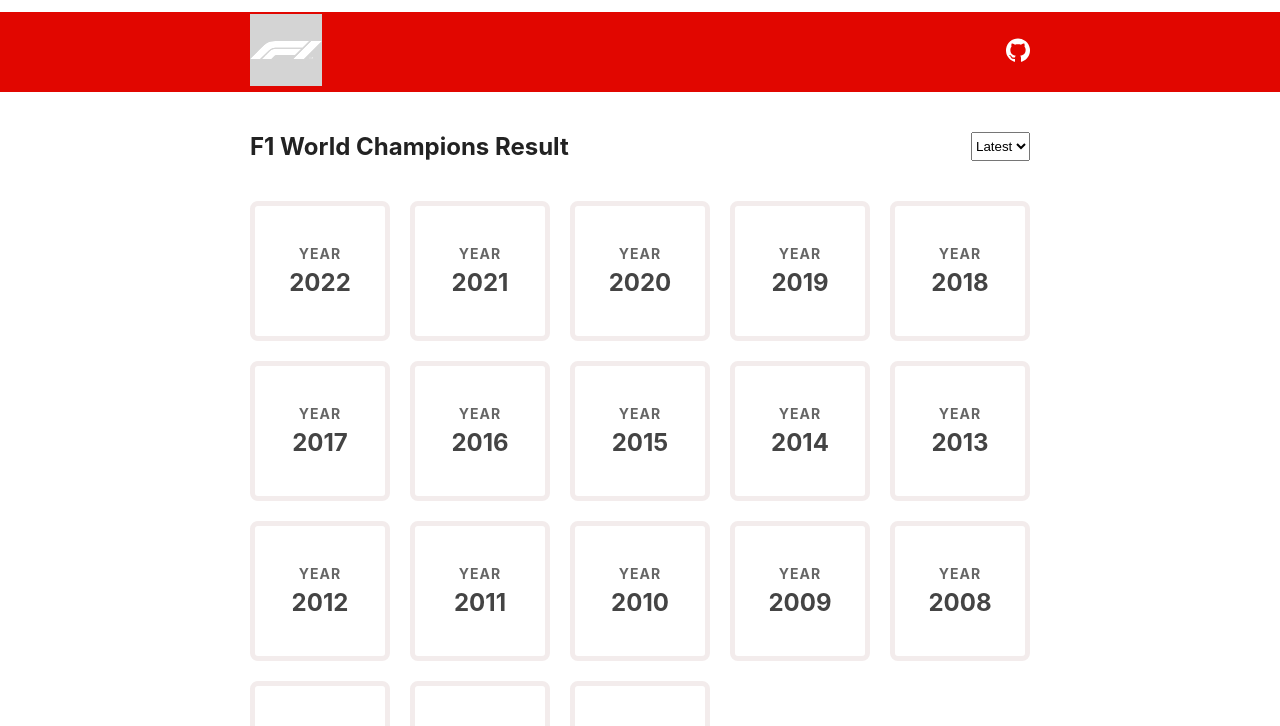
Test: Formula 1 App - Season page › shows the list of winners for every race for the selected year
Click the link to "/season/2022" at [320, 271], box [250, 201, 390, 341]
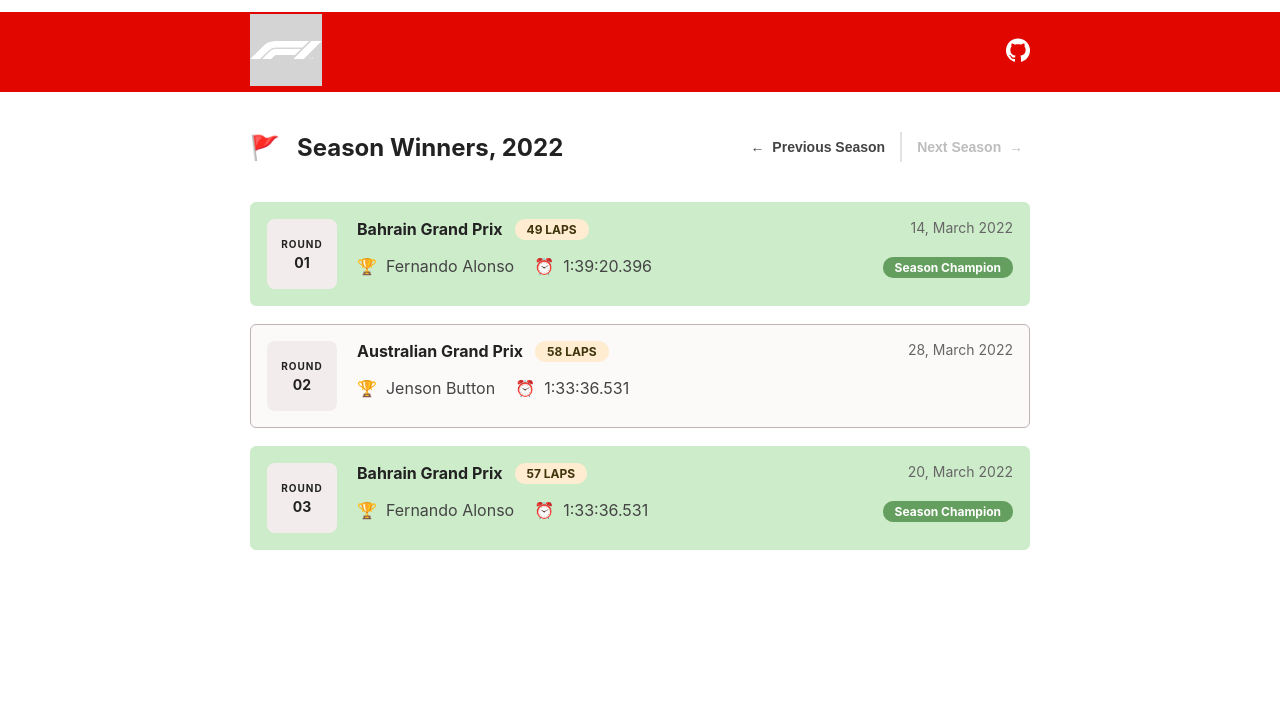
expect the heading "🚩 Season Winners, 2022" is shown: met, box [250, 132, 563, 162]
expect the element with test id "navigation" is shown: met, box [744, 132, 1030, 162]
expect the number of elements with test id "result" is 3: met, box [250, 202, 1030, 306]; [250, 324, 1030, 428]; [250, 446, 1030, 550]
